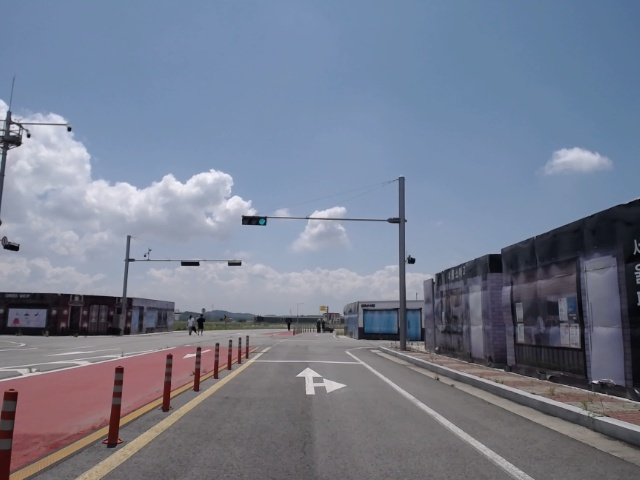green_3: (243, 217, 267, 225)
